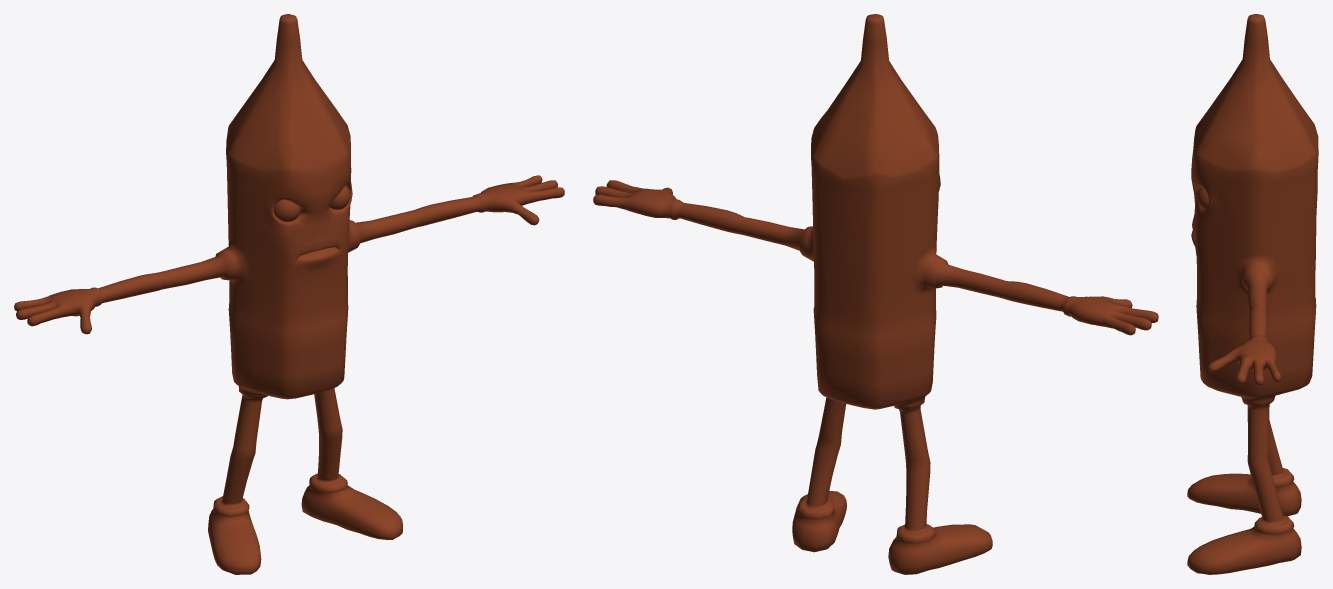
Rendered from pencil1_01.FBX.
3 views of the same model, side by side, from view 1: azimuth 30°, elevation 25°; view 2: azimuth 150°, elevation 25°; view 3: azimuth 270°, elevation 25° (orthographic). The views are drawn at different scales.
Parts seen in each view (by area): view 1: pencil_low, eyes_low; view 2: pencil_low; view 3: pencil_low, eyes_low.
Boxes of the visible parts, x1,y1,x2,y2 form: pencil_low: [14, 14, 564, 574]; eyes_low: [274, 185, 350, 222]; pencil_low: [593, 14, 1158, 574]; pencil_low: [1187, 14, 1318, 574]; eyes_low: [1197, 187, 1208, 209].
Bounding box in the file's own units: 54.45 × 49.8 × 11.44.
